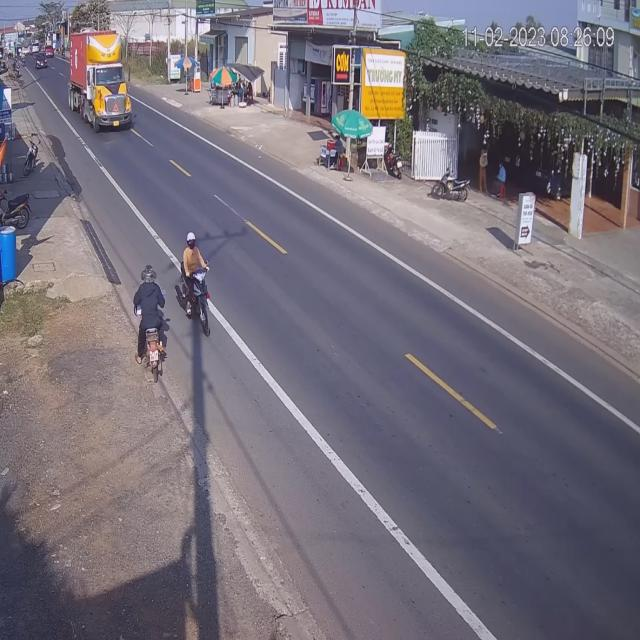motorbike: (133, 263, 169, 381), (179, 231, 214, 336)
truck: (70, 34, 130, 137)
